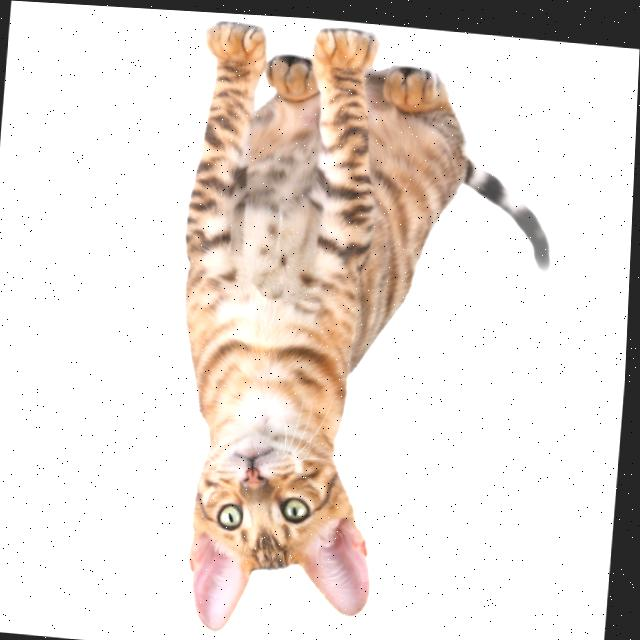Toyger: (156, 8, 571, 640)
